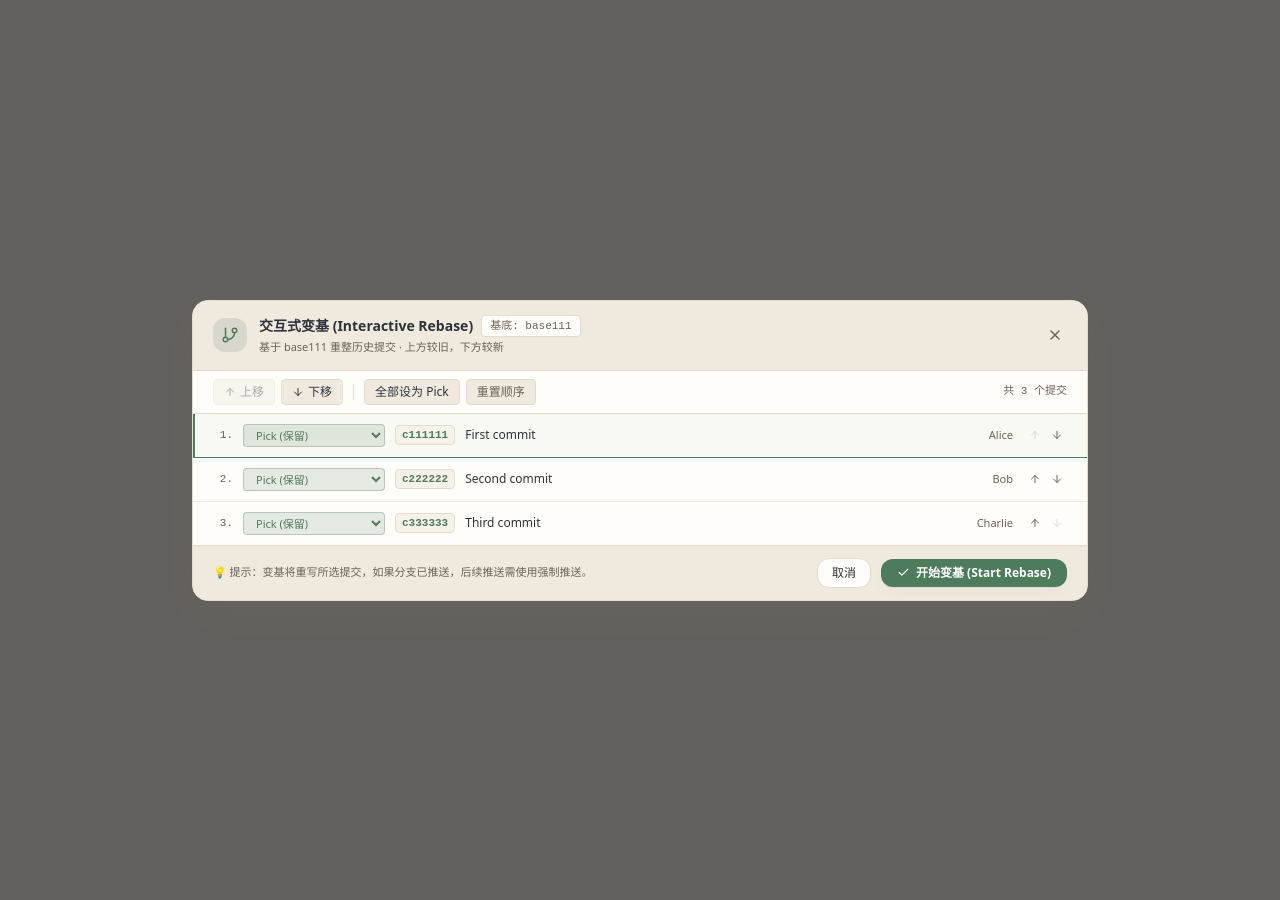
Test case: InteractiveRebaseModal › validates that first active commit cannot be squash
Check: the text "First commit" is shown, box x1=465 y1=427 x2=536 y2=443
Select "Squash (压缩合并)" in the dropdown next to "c111111" at [314, 435], box x1=243 y1=424 x2=385 y2=446
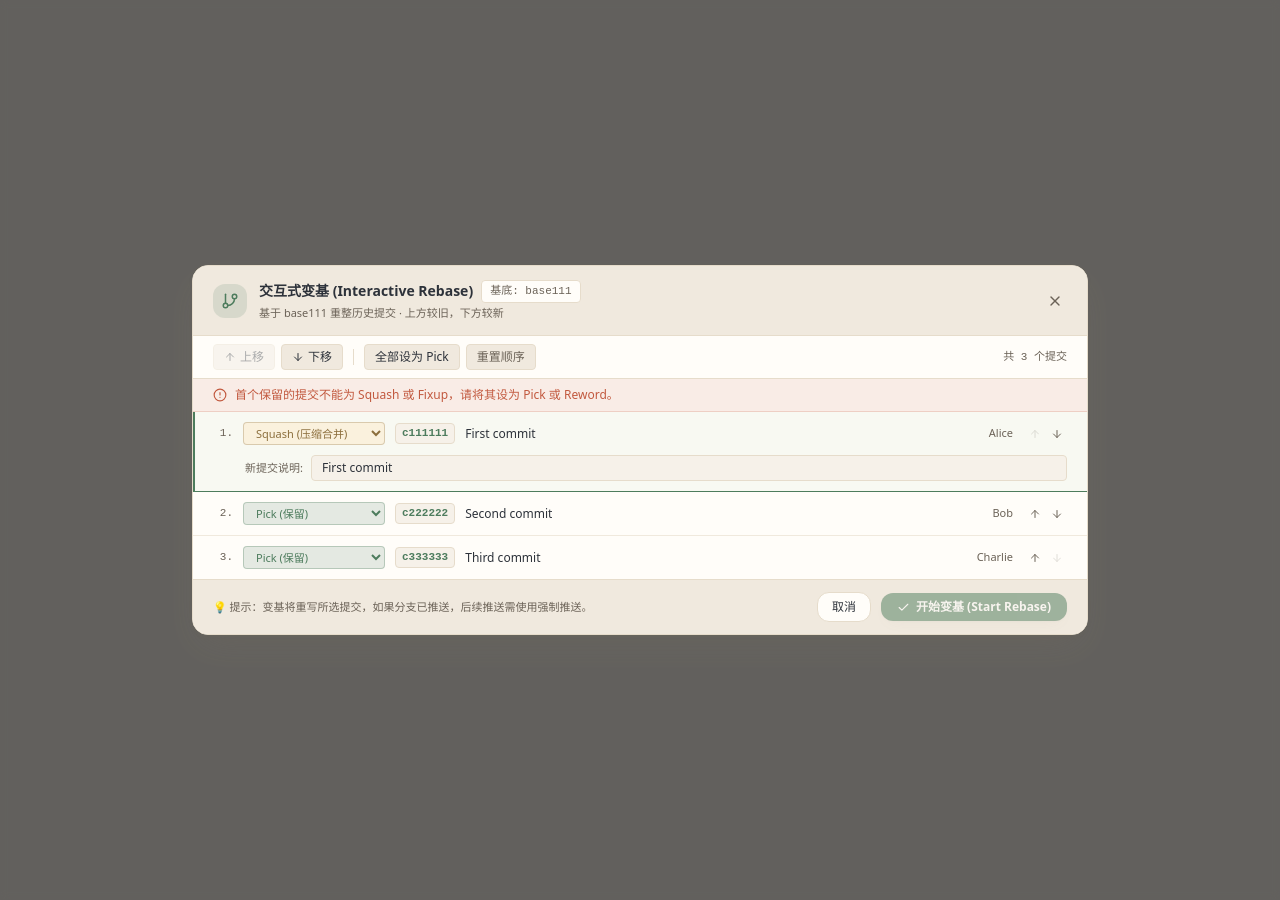
Check: the text "首个保留的提交不能为 Squash 或 Fixup，请将其设为 Pick 或 Reword。" is shown, box x1=235 y1=387 x2=619 y2=403
Check: the button "开始变基 (Start Rebase)" is disabled, box x1=881 y1=593 x2=1067 y2=621
